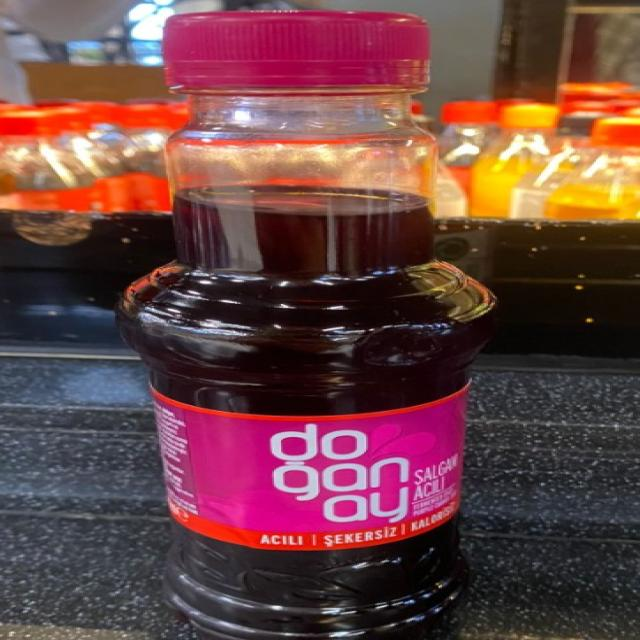yan_yemek: (111, 8, 498, 638)
